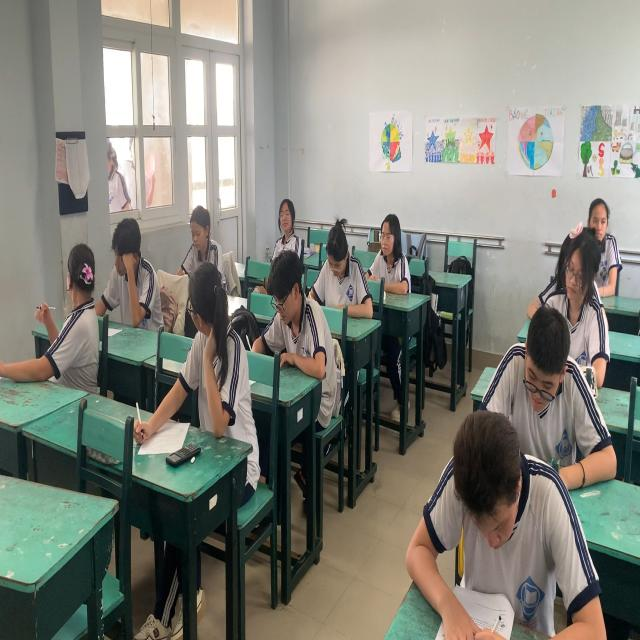cheating: (151, 200, 261, 438), (20, 201, 104, 401)
not_cheating: (397, 420, 604, 588), (476, 273, 597, 476), (234, 190, 332, 389), (88, 164, 180, 346), (533, 200, 609, 376), (304, 177, 390, 330), (347, 164, 433, 313), (161, 150, 247, 293), (246, 113, 328, 253), (568, 140, 608, 319)
